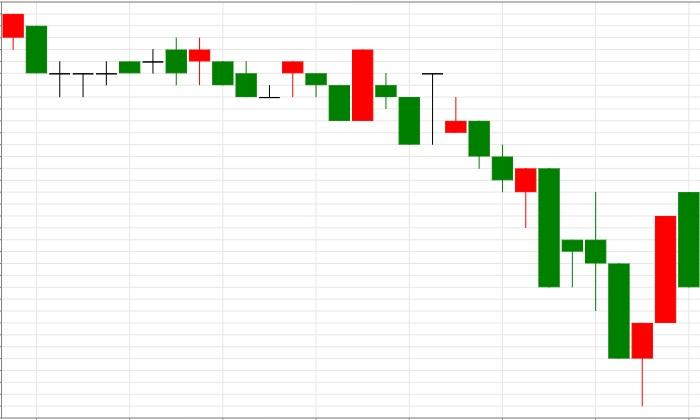bullish_engulfing_rise: (282, 48, 374, 121)
